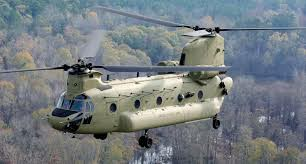chinook: (35, 20, 264, 149)
